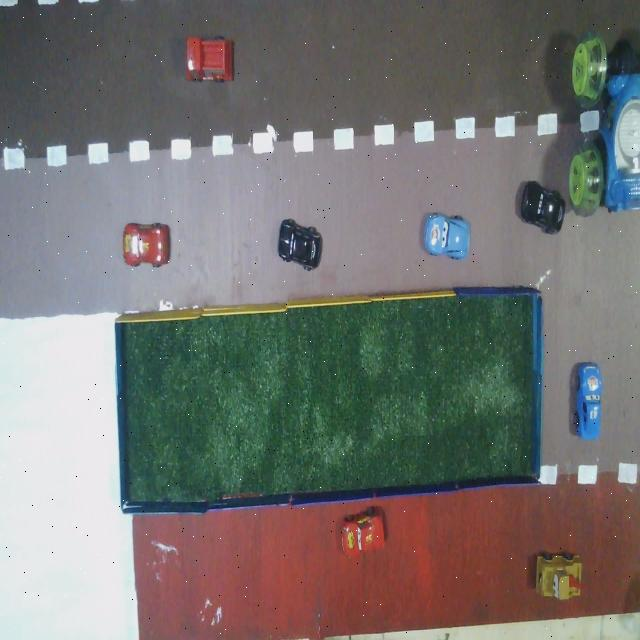driver car f: (569, 32, 639, 215)
small cars: (521, 181, 565, 234), (278, 220, 321, 270), (424, 213, 470, 259), (342, 507, 384, 557), (536, 554, 581, 600), (187, 37, 233, 82), (123, 223, 169, 267), (575, 363, 601, 439)
